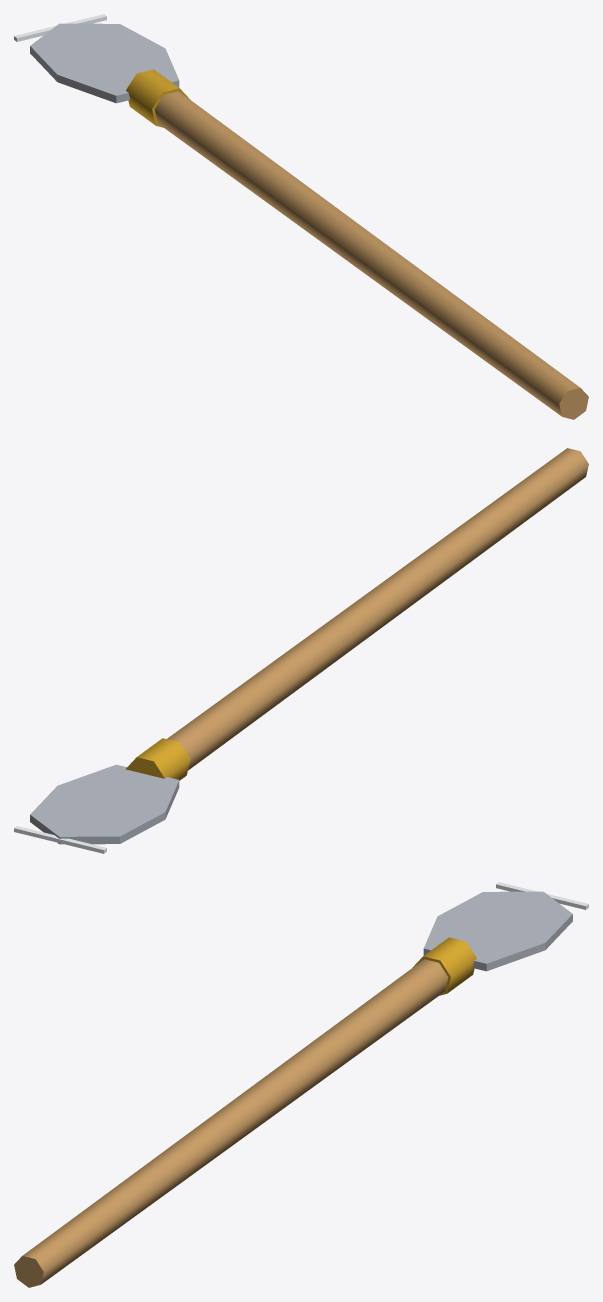
Rendered from tool_spud.glb.
The picture shows the model from 3 angles, top to bottom: view 1: azimuth 30°, elevation 25°; view 2: azimuth 150°, elevation 25°; view 3: azimuth 330°, elevation 25°; orthographic projection.
Parts seen in each view (by area): view 1: _MeshInstance3D_902, _MeshInstance3D_904, _MeshInstance3D_903; view 2: _MeshInstance3D_902, _MeshInstance3D_904, _MeshInstance3D_903, _MeshInstance3D_905; view 3: _MeshInstance3D_902, _MeshInstance3D_904, _MeshInstance3D_903.
Part boxes in pixels (x1,y1,x2,y2): _MeshInstance3D_902: (154, 91, 588, 419); _MeshInstance3D_904: (30, 23, 179, 103); _MeshInstance3D_903: (126, 69, 190, 127); _MeshInstance3D_902: (167, 448, 588, 770); _MeshInstance3D_904: (30, 764, 179, 844); _MeshInstance3D_903: (126, 738, 190, 780); _MeshInstance3D_905: (14, 826, 106, 853); _MeshInstance3D_902: (14, 959, 448, 1287); _MeshInstance3D_904: (423, 891, 572, 971); _MeshInstance3D_903: (412, 937, 476, 995).
Size of the model in its own units: 0.12 by 0.0418 by 0.991.
